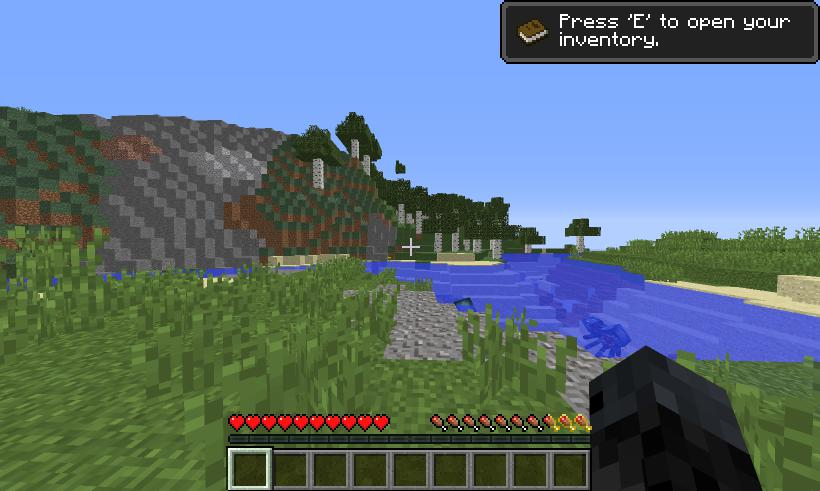minecraft-blocks: (314, 160, 325, 192), (494, 240, 503, 261), (352, 140, 360, 161), (453, 234, 460, 254), (436, 234, 443, 254), (417, 212, 423, 235), (577, 237, 585, 253), (365, 156, 371, 177), (400, 205, 405, 229), (475, 240, 483, 254), (464, 240, 471, 252), (407, 214, 413, 225), (527, 246, 533, 254)
